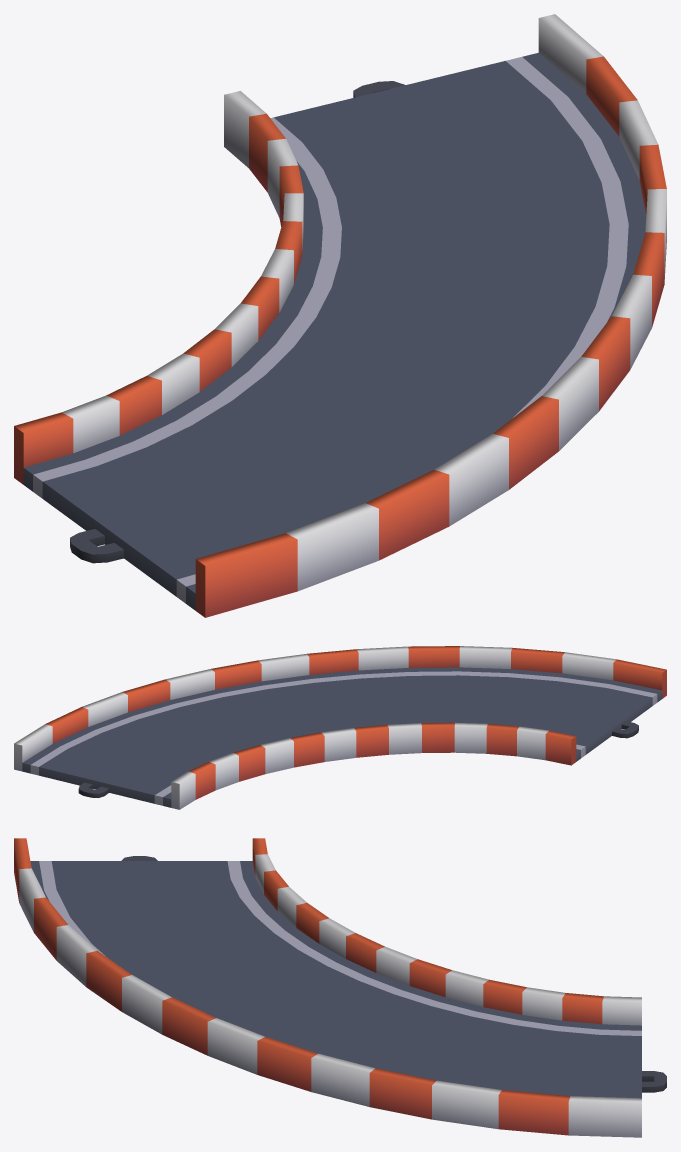
File: track-road-wide-corner-large.glb
The picture shows the model from 3 angles, top to bottom: view 1: azimuth 30°, elevation 25°; view 2: azimuth 150°, elevation 25°; view 3: azimuth 270°, elevation 25°; orthographic projection. The views are drawn at different scales.
Parts seen in each view (by area): view 1: track-road-wide-corner-large; view 2: track-road-wide-corner-large; view 3: track-road-wide-corner-large.
Part boxes in pixels (x1,y1,x2,y2): track-road-wide-corner-large: (14, 14, 666, 617); track-road-wide-corner-large: (14, 646, 666, 809); track-road-wide-corner-large: (14, 838, 666, 1137).
Bounding box in the file's own units: 5.2 × 0.3 × 5.2.
